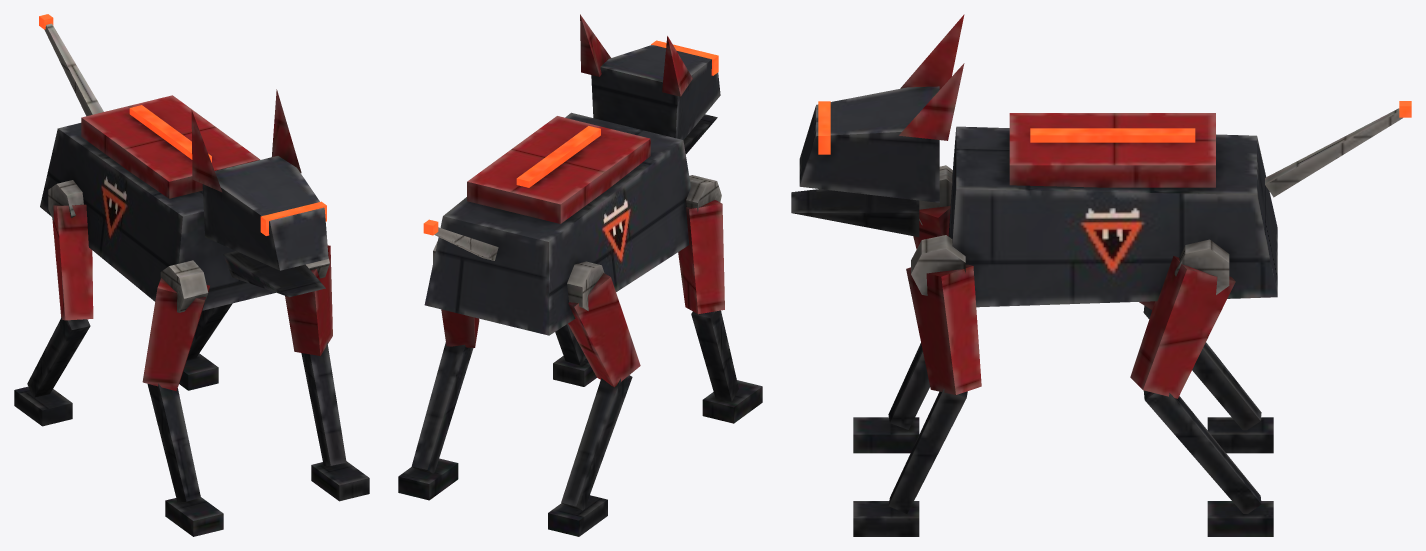
File: s_hound_e.glb
3 renders of one model, left to right at view 1: azimuth 30°, elevation 25°; view 2: azimuth 150°, elevation 25°; view 3: azimuth 270°, elevation 25°, orthographic. The views are drawn at different scales.
Visible parts, largest first — view 1: s_hound_e; view 2: s_hound_e; view 3: s_hound_e.
Boxes of the visible parts, box(x1,y1,x2,y2) form: s_hound_e: box(14, 14, 369, 536); s_hound_e: box(398, 14, 762, 536); s_hound_e: box(791, 14, 1411, 536).
Bounding box in the file's own units: 0.6263 × 1.2 × 1.5.
Materials: 1 (1 with a texture image).
